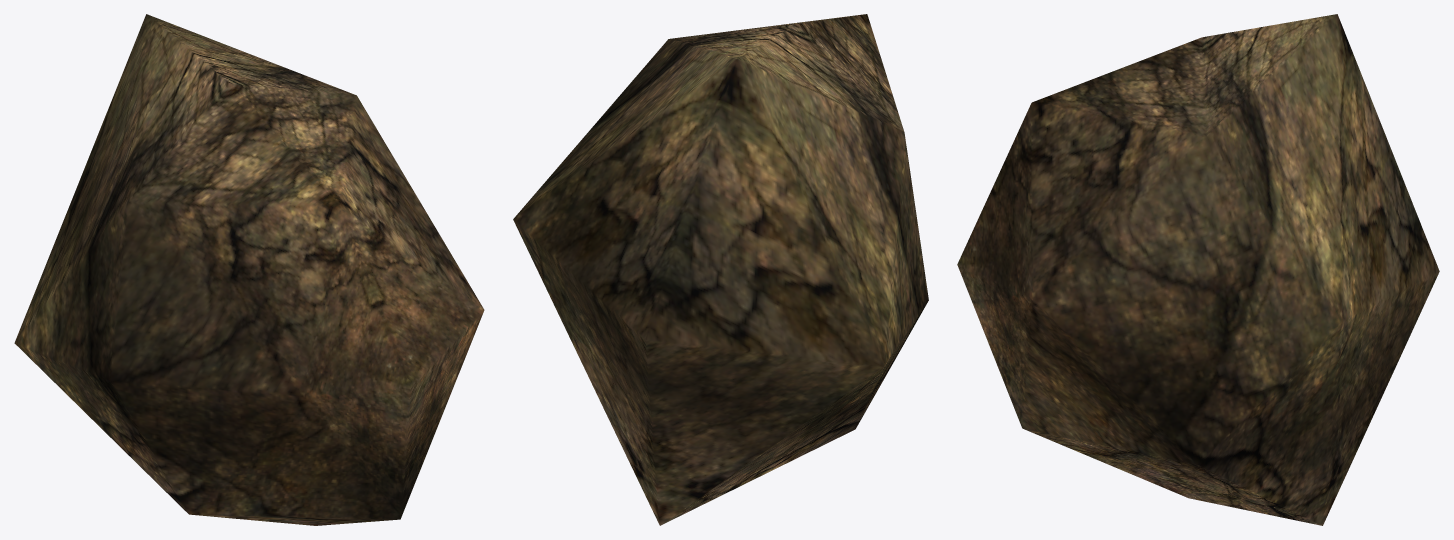
The model's file is stone_06.obj.
3 renders of one model, left to right at view 1: azimuth 30°, elevation 25°; view 2: azimuth 150°, elevation 25°; view 3: azimuth 270°, elevation 25°, orthographic. The views are drawn at different scales.
Parts seen in each view (by area): view 1: (null); view 2: (null); view 3: (null).
Part boxes in pixels (<box>): (null): <box>14,14,484,525</box>; (null): <box>513,14,928,525</box>; (null): <box>957,14,1439,525</box>.
Bounding box in the file's own units: 2.06 × 2.7 × 2.5.
